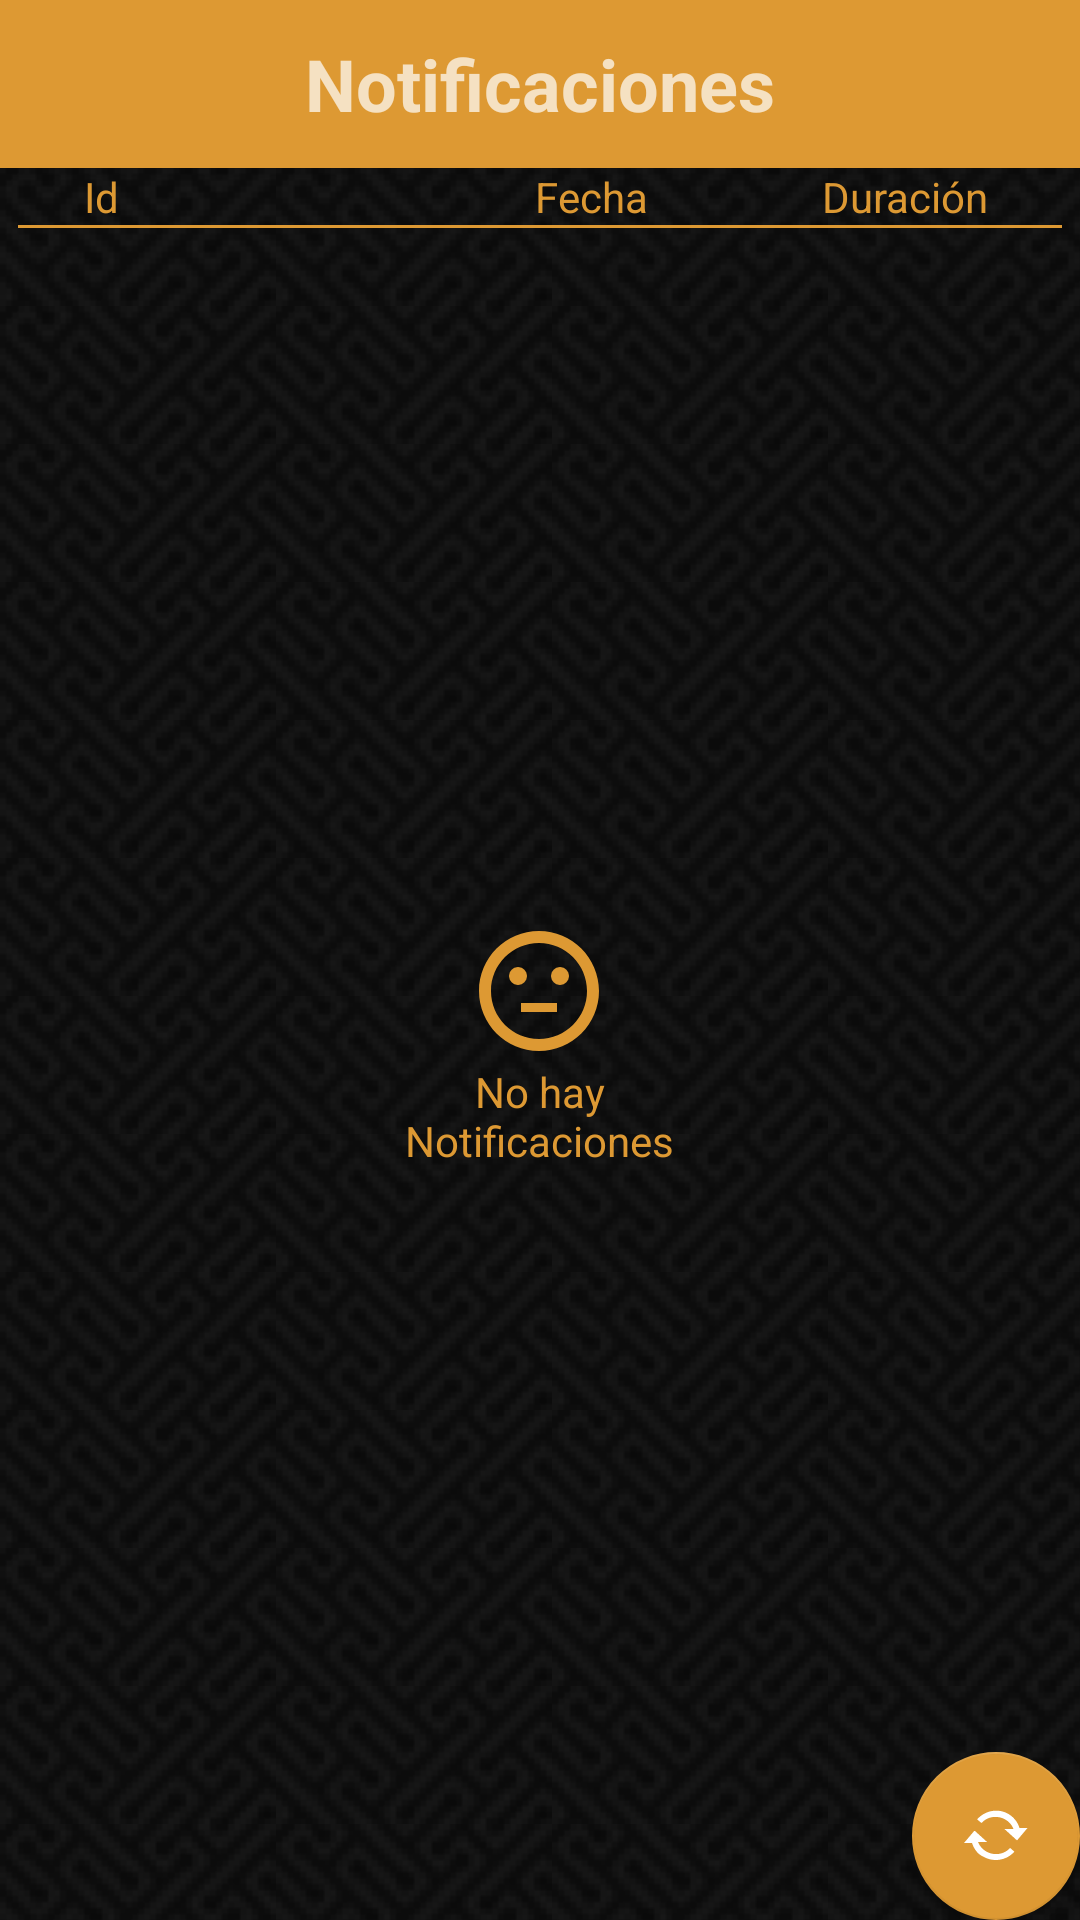

Named icons in this screenshot (1080px x 1920px) and their centers, [x,y]:
sentiment neutral: [539,991]
sync noanim: [996,1836]
